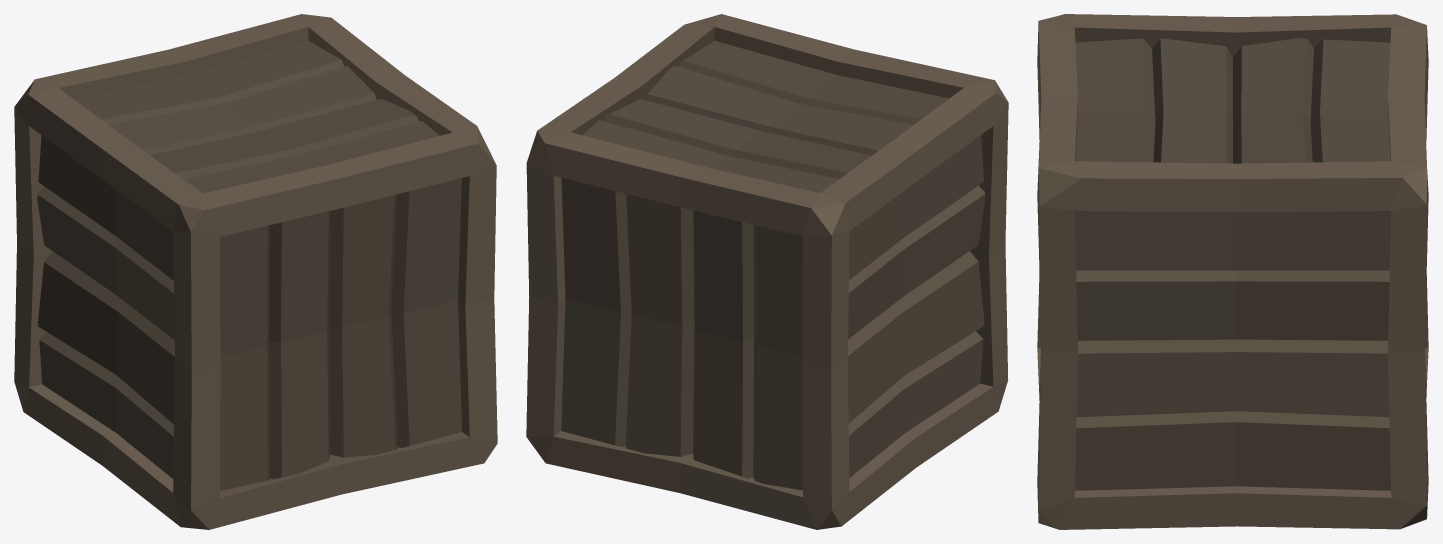
File: SM_Prop_Crate_01.fbx
3 renders of one model, left to right at view 1: azimuth 30°, elevation 25°; view 2: azimuth 150°, elevation 25°; view 3: azimuth 270°, elevation 25°, orthographic. The views are drawn at different scales.
Parts seen in each view (by area): view 1: SM_Prop_Crate_01; view 2: SM_Prop_Crate_01; view 3: SM_Prop_Crate_01.
Boxes of the visible parts, <box> form: SM_Prop_Crate_01: <box>14,14,497,529</box>; SM_Prop_Crate_01: <box>526,14,1008,529</box>; SM_Prop_Crate_01: <box>1037,14,1428,529</box>.
Bounding box in the file's own units: 0.8441 × 0.8441 × 0.8441.
